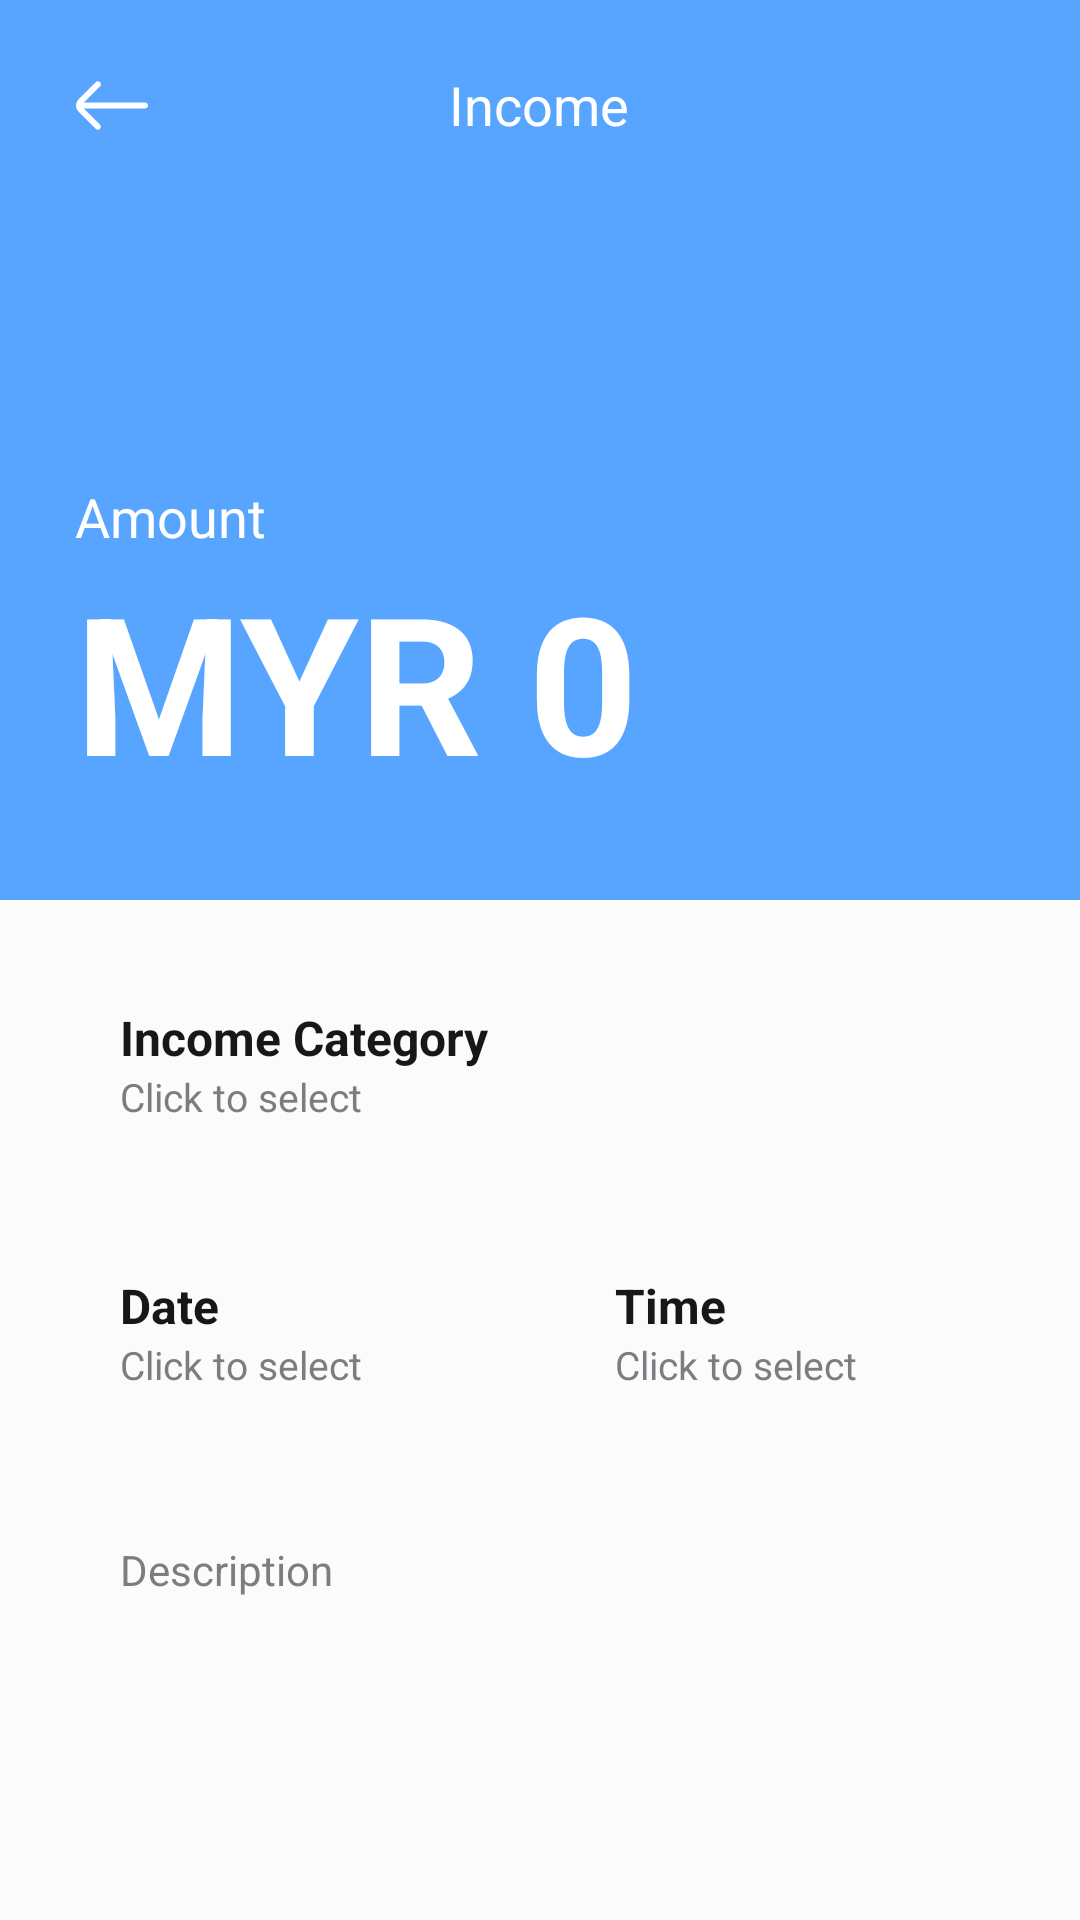

Locate icon controls on the screen. Image size 1080 × 1920, boxes as {"x1": x1, "y1": y1, "x2": x2, "y2": y2}.
return: {"x1": 76, "y1": 81, "x2": 148, "y2": 130}
